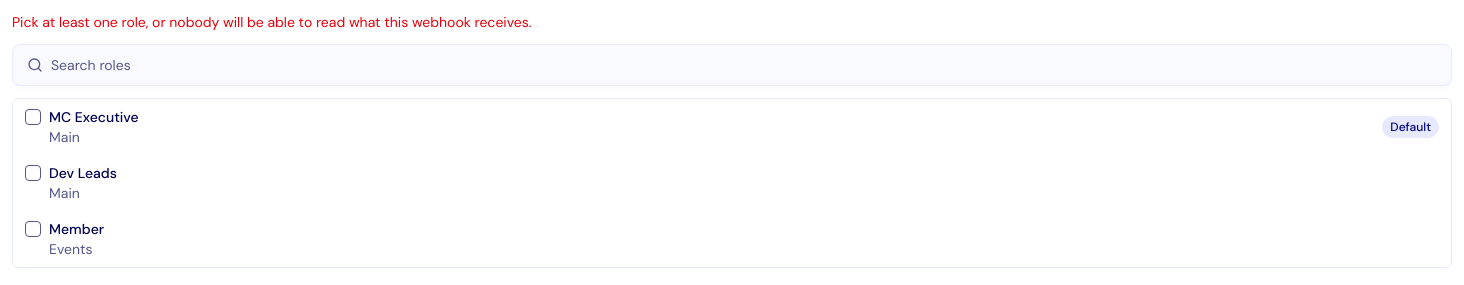
Test: RolePicker › narrows the list by role or server name
The image size is (1464, 285).
Type "events" into the search field labelled "Search roles".
click(747, 65); type("events")  # box [43,45,1451,85]
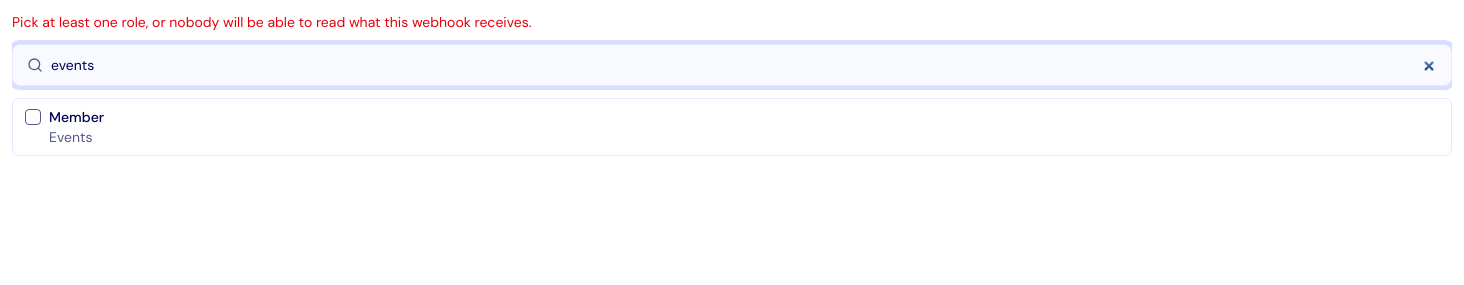
Expected: the checkbox named "Member" is shown, [25,109,41,125]
Now the text "Dev Leads" is gone
